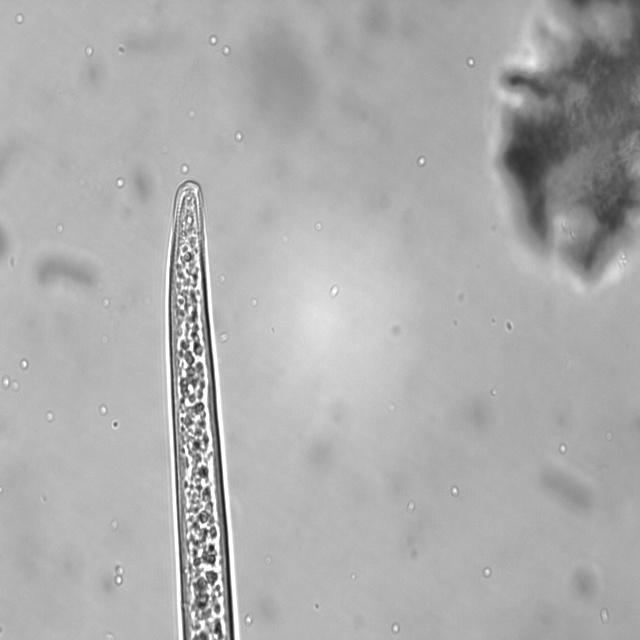Pratylenchus: (165, 178, 247, 640)
